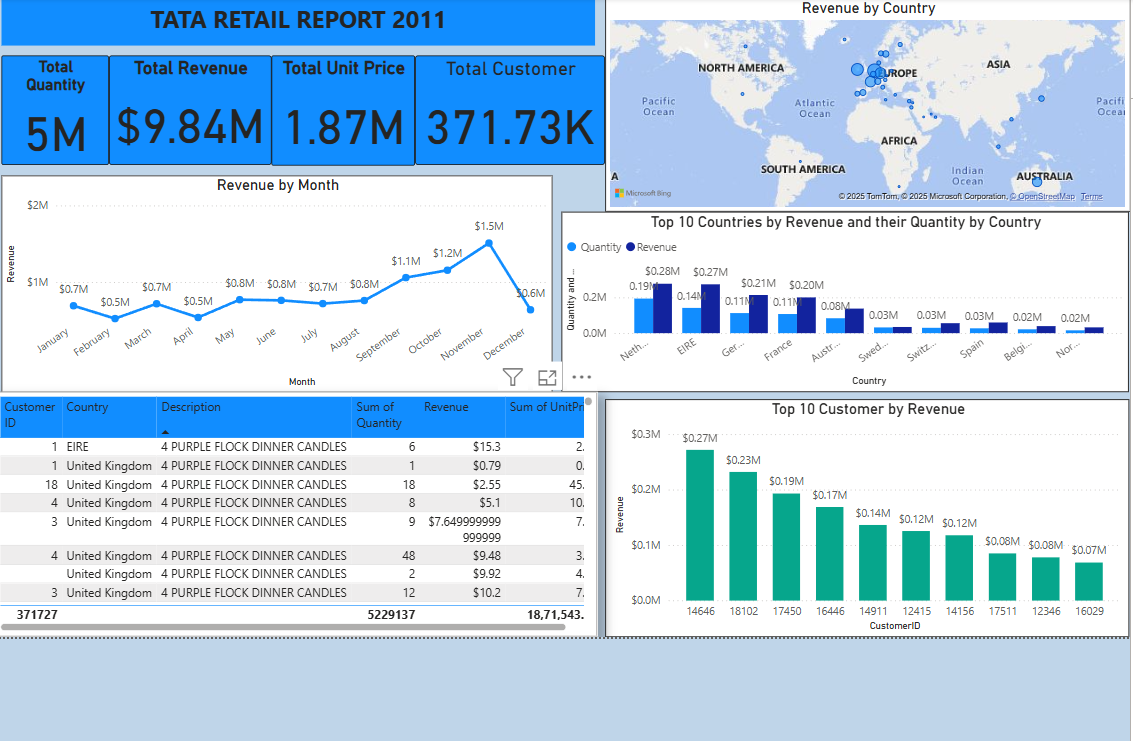

This screenshot's page, from the dashboard's own definition file:
{"tool":"powerbi","page":{"name":"Retail Report","canvas":[1280,720],"ordinal":4},"visuals":[{"type":"lineChart","fields":{"Category":["Online Retail.InvoiceDate.Variation.Date Hierarchy.Month"],"Y":["Sum(Online Retail.Revenue)"]},"box":[8.6,199.3,621.2,244.6],"z":0},{"type":"map","title":" Revenue by Country","fields":{"Size":["Sum(Online Retail.Quantity)"],"Category":["Online Retail.Country"]},"box":[688.5,0,591.9,240.9],"z":1000},{"type":"clusteredColumnChart","title":"Top 10 Countries by Revenue and their Quantity by Country","fields":{"Category":["Online Retail.Country"],"Y":["Sum(Online Retail.Quantity)","Sum(Online Retail.Revenue)"]},"box":[639.5,240.9,639.5,203],"z":2000},{"type":"clusteredColumnChart","title":" Top 10 Customer by Revenue","fields":{"Category":["Online Retail.CustomerID"],"Y":["Sum(Online Retail.Revenue)"]},"box":[688.5,452.4,590.6,267.8],"z":3000},{"type":"textbox","box":[8.5,0,669,53.5],"z":4000},{"type":"tableEx","fields":{"Values":["CountNonNull(Online Retail.CustomerID)","Online Retail.Country","Online Retail.Description","Sum(Online Retail.Quantity)","Online Retail.Revenue","Sum(Online Retail.UnitPrice)"]},"box":[0,443.7,680.3,276.1],"z":5000},{"type":"card","title":"Total Quantity","fields":{"Values":["Sum(Online Retail.Quantity)"]},"box":[8.6,64.8,121.1,123.5],"z":6000},{"type":"card","title":"Total Revenue","fields":{"Values":["Sum(Online Retail.Revenue)"]},"box":[129.6,64.8,183.4,123.5],"z":7000},{"type":"card","title":"Total Unit Price","fields":{"Values":["Sum(Online Retail.UnitPrice)"]},"box":[312.7,64.8,162,123.9],"z":8000},{"type":"card","title":"Total Customer","fields":{"Values":["CountNonNull(Online Retail.CustomerID)"]},"box":[474.5,64.8,214,123.5],"z":9000}]}

Visuals, with their boxes on the page's 1280x720 design canvas (x1, y1, x2, y2). These are canvas units, not pixel positions in the 1133x741 screenshot, which may show the page scaled, cropped or inside an application window:
lineChart - Online Retail.InvoiceDate.Variation.Date Hierarchy.Month x Sum(Online Retail.Revenue): 9,199,630,444
" Revenue by Country" map: 688,0,1280,241
"Top 10 Countries by Revenue and their Quantity by Country" clusteredColumnChart: 640,241,1279,444
" Top 10 Customer by Revenue" clusteredColumnChart: 688,452,1279,720
textbox: 8,0,678,54
tableEx - CountNonNull(Online Retail.CustomerID) x Online Retail.Country: 0,444,680,720
"Total Quantity" card: 9,65,130,188
"Total Revenue" card: 130,65,313,188
"Total Unit Price" card: 313,65,475,189
"Total Customer" card: 474,65,688,188
